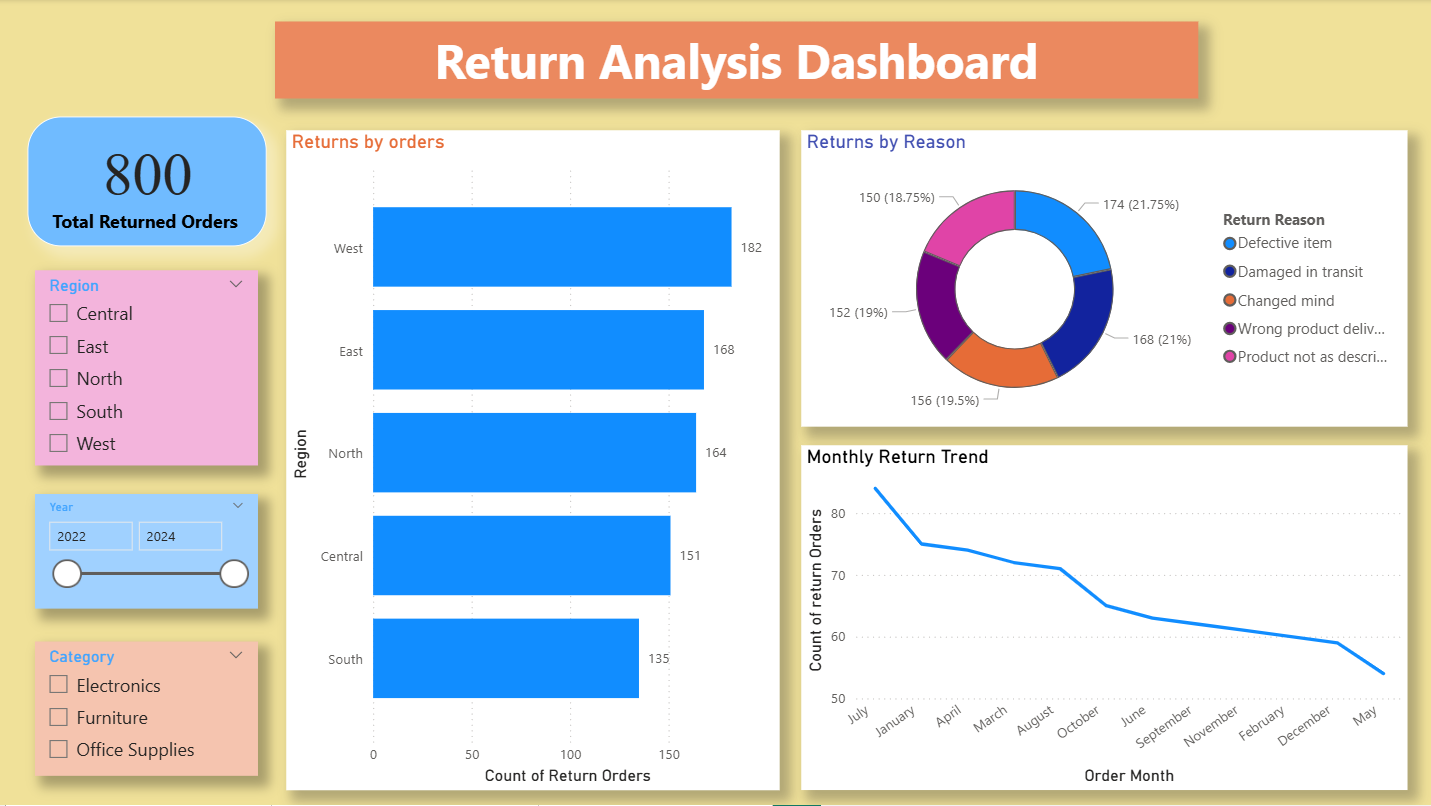

The page's visual inventory and layout, read from the dashboard file:
{"tool":"powerbi","page":{"name":"Return Analysis Dashboard","canvas":[1280,720],"ordinal":2},"visuals":[{"type":"textbox","box":[245.3,19.8,824.4,68.6],"z":0},{"type":"clusteredBarChart","title":"Returns by orders","fields":{"Category":["Customers.Region"],"Y":["CountNonNull(Orders.Is Returned)"]},"box":[255.8,117.4,440.7,589.5],"z":1000},{"type":"donutChart","title":"Returns by Reason","fields":{"Category":["Orders.Return Reason"],"Y":["Count(Orders.Order ID)"]},"box":[716.3,117.4,541.9,265.1],"z":2000},{"type":"lineChart","title":"Monthly Return Trend","fields":{"Category":["Orders.Order Month"],"Y":["CountNonNull(Orders.Is Returned)"]},"box":[716.3,398.8,541.9,308.1],"z":3000},{"type":"card","fields":{"Values":["CountNonNull(Returns.Return ID)"]},"box":[24.4,104.7,214,116.3],"z":4000},{"type":"slicer","fields":{"Values":["Orders.Region"]},"box":[31.4,241.9,198.8,174.4],"z":5000},{"type":"slicer","fields":{"Values":["Returns.Return Date.Variation.Date Hierarchy.Year"]},"box":[31.4,441.9,198.8,102.3],"z":6000},{"type":"slicer","fields":{"Values":["Orders.Category"]},"box":[31.4,574.4,198.8,119.8],"z":7000}]}

Visuals, with their boxes in screenshot pixels (x1, y1, x2, y2), scaled from the page's 1280x720 canvas onto the 1431x806 screenshot:
textbox: Rect(274, 22, 1196, 99)
"Returns by orders" clusteredBarChart: Rect(286, 131, 779, 791)
"Returns by Reason" donutChart: Rect(801, 131, 1407, 428)
"Monthly Return Trend" lineChart: Rect(801, 446, 1407, 791)
card - CountNonNull(Returns.Return ID): Rect(27, 117, 267, 247)
slicer - Orders.Region: Rect(35, 271, 257, 466)
slicer - Returns.Return Date.Variation.Date Hierarchy.Year: Rect(35, 495, 257, 609)
slicer - Orders.Category: Rect(35, 643, 257, 777)
